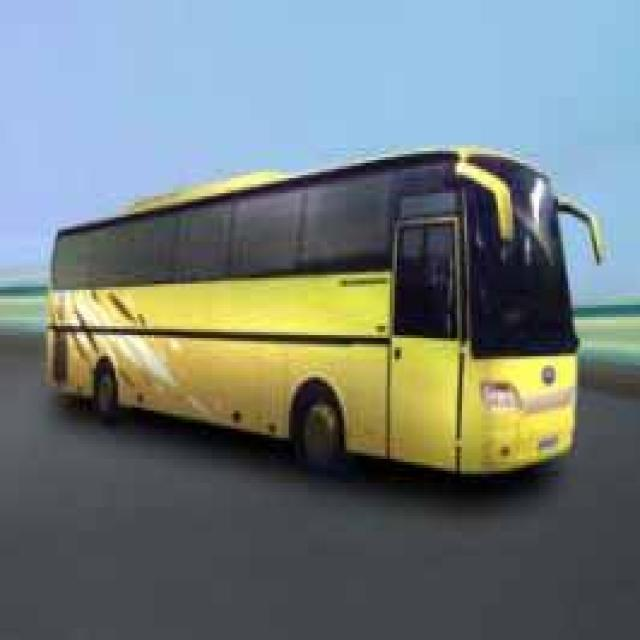bus: (32, 146, 612, 496)
